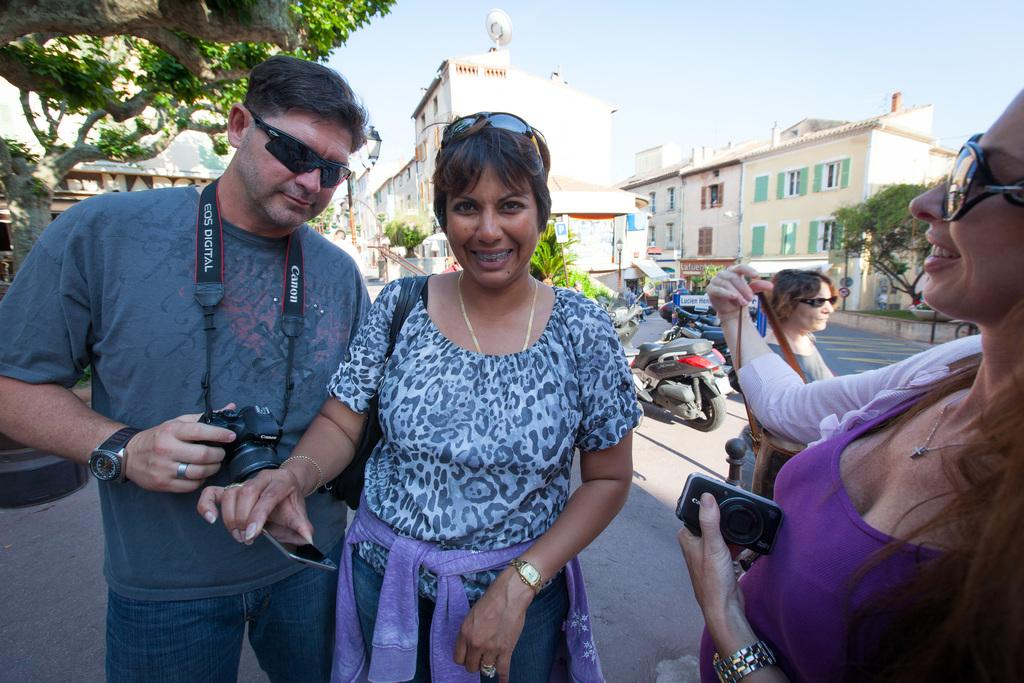Sem Máscara: (906, 89, 1021, 315), (238, 108, 350, 224), (442, 156, 538, 285), (796, 279, 833, 329), (573, 279, 582, 291)
